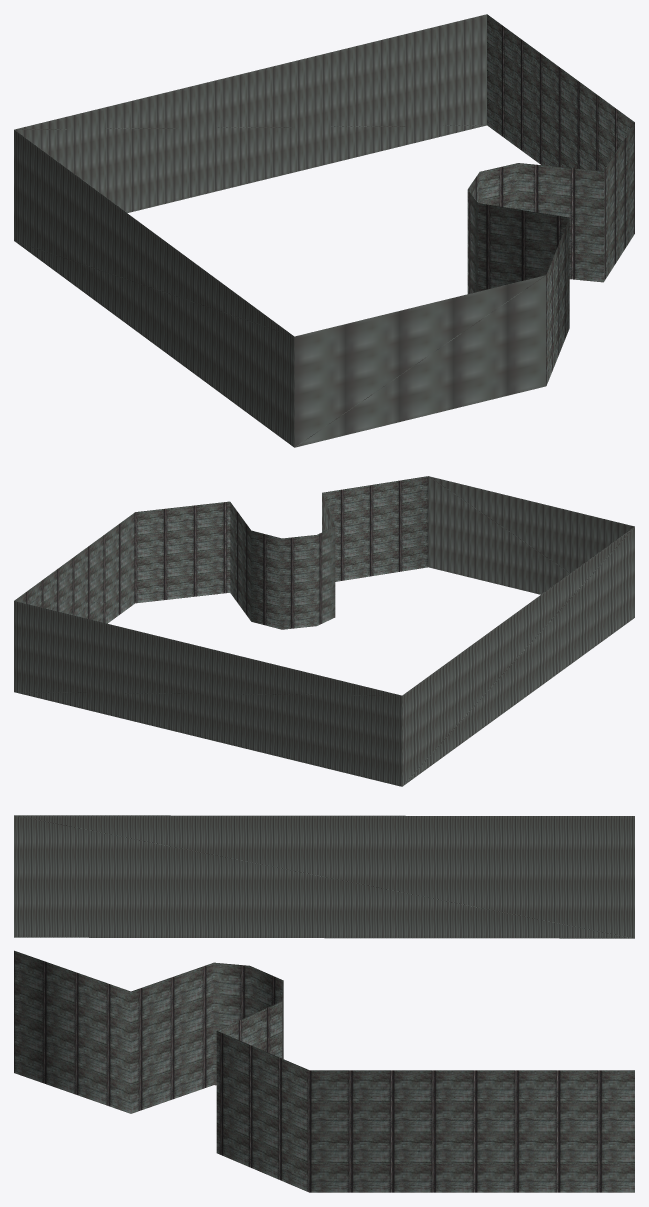
The model's file is LAKETOWN_EXTERIOR_PS_LT_LINE010.fbx.
3 views of the same model, one above another, from view 1: azimuth 30°, elevation 25°; view 2: azimuth 150°, elevation 25°; view 3: azimuth 270°, elevation 25° (orthographic). The views are drawn at different scales.
Parts seen in each view (by area): view 1: LAKETOWN_EXTERIOR_PS_LT_LINE010; view 2: LAKETOWN_EXTERIOR_PS_LT_LINE010; view 3: LAKETOWN_EXTERIOR_PS_LT_LINE010.
Part boxes in pixels (x1,y1,x2,y2): LAKETOWN_EXTERIOR_PS_LT_LINE010: [14, 14, 634, 447]; LAKETOWN_EXTERIOR_PS_LT_LINE010: [14, 476, 634, 786]; LAKETOWN_EXTERIOR_PS_LT_LINE010: [14, 815, 634, 1192].
Size of the model in its own units: 322212 by 72150 by 331626.
1 material, 1 textured.
